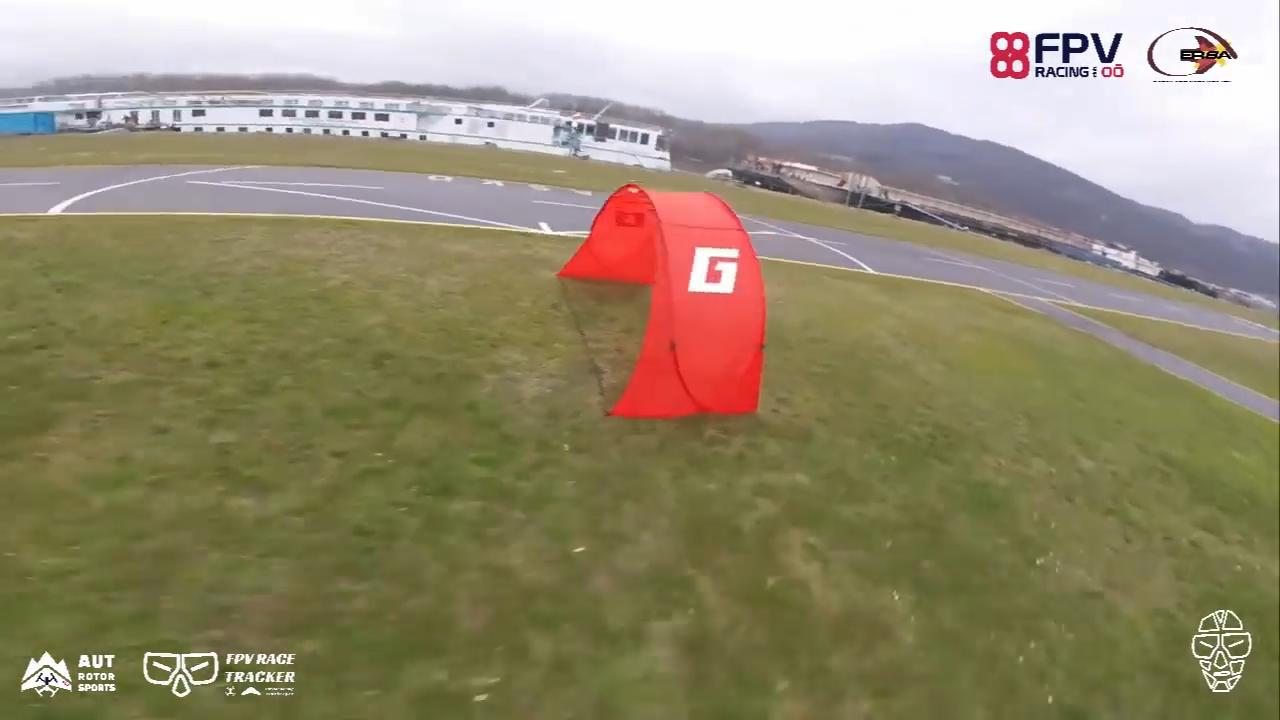gate: (554, 181, 767, 424)
